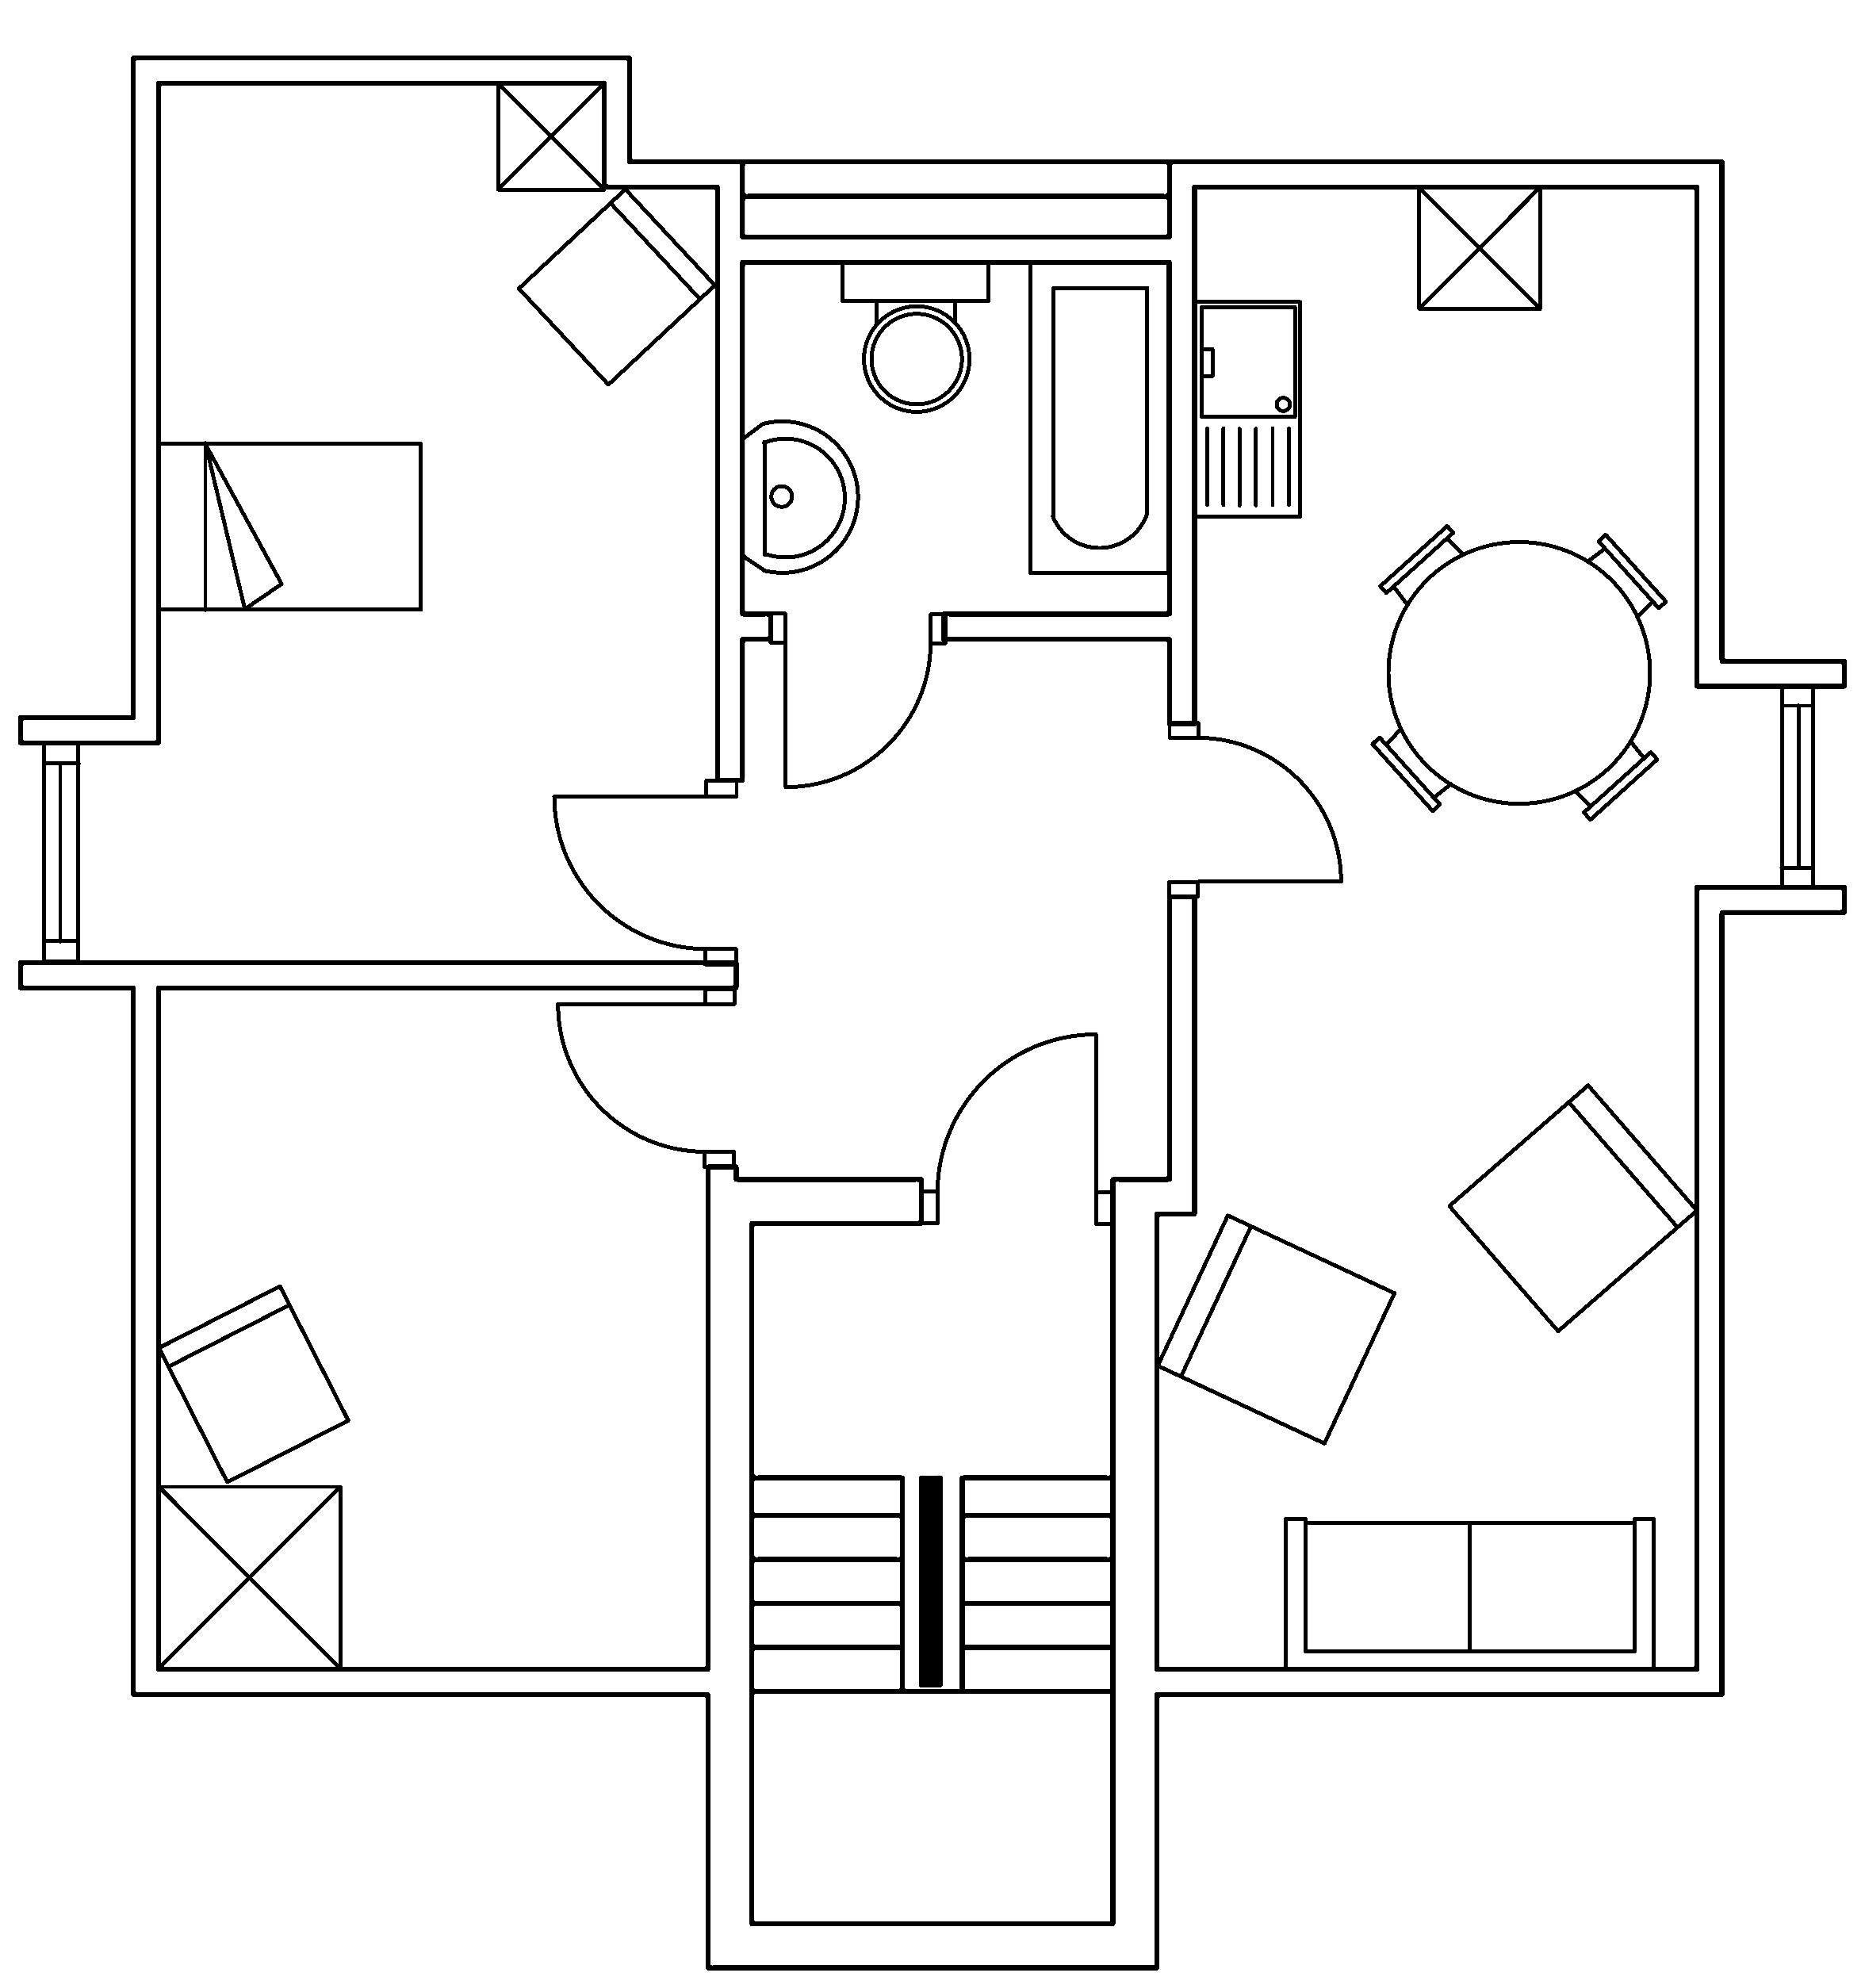bed: (154, 440, 424, 612)
coffee_table: (154, 1481, 342, 1671), (1416, 182, 1542, 310), (494, 79, 606, 191)
large_sink: (840, 258, 990, 412)
large_sofa: (1283, 1515, 1656, 1672)
round_table: (1369, 522, 1669, 822)
sink: (1192, 298, 1302, 519)
small_sink: (740, 419, 859, 573)
small_sofa: (1446, 1082, 1698, 1332), (1153, 1211, 1397, 1446), (515, 186, 717, 387), (156, 1282, 351, 1485)
tub: (1027, 258, 1171, 575)
